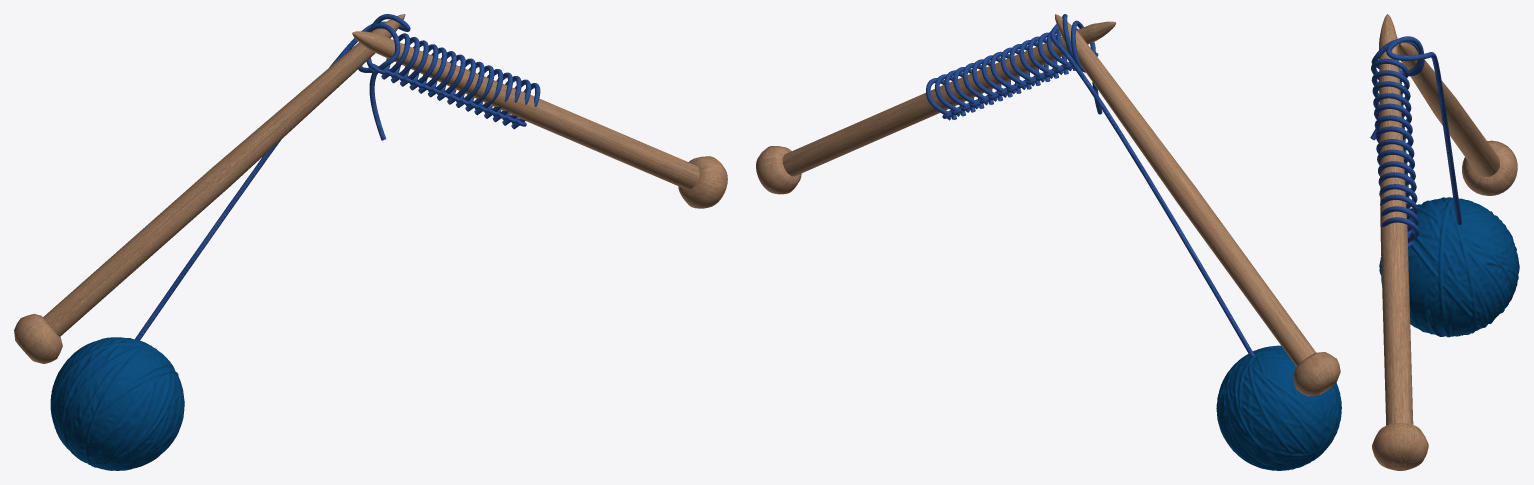
Rendered from purl2.glb.
3 renders of one model, left to right at view 1: azimuth 30°, elevation 25°; view 2: azimuth 150°, elevation 25°; view 3: azimuth 270°, elevation 25°, orthographic. The views are drawn at different scales.
Visible parts, largest first — view 1: SM_Globe6HD_retopo_blinn2_0_4, niddle.001, niddle, topring.015; view 2: SM_Globe6HD_retopo_blinn2_0_4, niddle.001, niddle, topring.015; view 3: SM_Globe6HD_retopo_blinn2_0_4, niddle, niddle.001, topring.015, topring, topring.013, topring.014, topring.012, topring.008, topring.010, topring.009, topring.011 (+7 smaller).
Part boxes in pixels (bbox=[...]): SM_Globe6HD_retopo_blinn2_0_4: bbox=[50, 337, 184, 470]; niddle.001: bbox=[14, 14, 405, 363]; niddle: bbox=[352, 31, 727, 208]; topring.015: bbox=[134, 14, 410, 340]; SM_Globe6HD_retopo_blinn2_0_4: bbox=[1216, 345, 1341, 470]; niddle.001: bbox=[1055, 14, 1340, 396]; niddle: bbox=[756, 21, 1116, 194]; topring.015: bbox=[1050, 14, 1254, 356]; SM_Globe6HD_retopo_blinn2_0_4: bbox=[1379, 197, 1519, 337]; niddle: bbox=[1372, 14, 1428, 470]; niddle.001: bbox=[1397, 42, 1517, 195]; topring.015: bbox=[1370, 36, 1461, 224]; topring: bbox=[1381, 217, 1419, 243]; topring.013: bbox=[1371, 70, 1409, 94]; topring.014: bbox=[1371, 58, 1408, 82]; topring.012: bbox=[1372, 81, 1410, 105]; topring.008: bbox=[1375, 126, 1413, 151]; topring.010: bbox=[1374, 103, 1411, 128]; topring.009: bbox=[1374, 115, 1412, 140]; topring.011: bbox=[1373, 93, 1411, 117].
Bounding box in the file's own units: 5.87 × 3.43 × 1.1.
3 materials, 2 textured.
